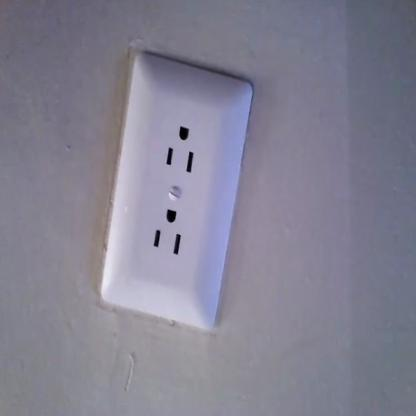OUTLET: (106, 68, 240, 325)
